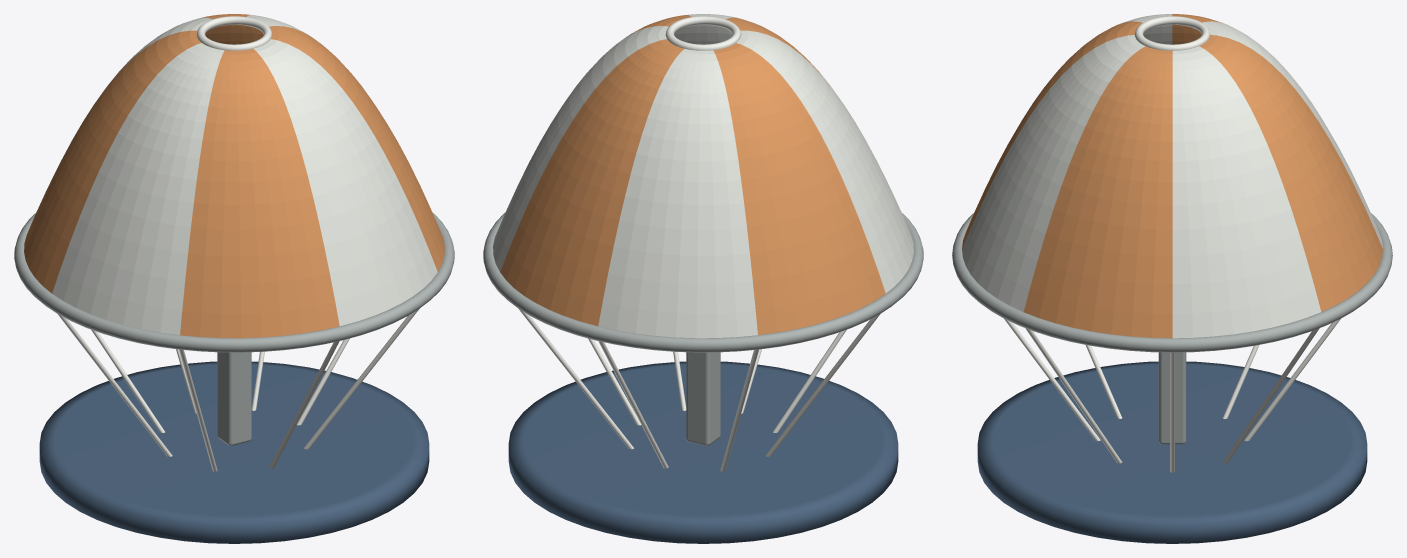
The model's file is spacecraft-parachute-packing-hall-spacecraft-parachute-7ce0497d__32090.glb.
The picture shows the model from 3 angles, left to right: view 1: azimuth 30°, elevation 25°; view 2: azimuth 150°, elevation 25°; view 3: azimuth 270°, elevation 25°; orthographic projection.
Parts seen in each view (by area): view 1: spacecraft-parachute-packing-hall-pilot-canopy-inspection-fo (×5); view 2: spacecraft-parachute-packing-hall-pilot-canopy-inspection-fo (×5); view 3: spacecraft-parachute-packing-hall-pilot-canopy-inspection-fo (×5).
Part boxes in pixels (x1=…): spacecraft-parachute-packing-hall-pilot-canopy-inspection-fo (×5): x1=14, y1=14, x2=454, y2=543; spacecraft-parachute-packing-hall-pilot-canopy-inspection-fo (×5): x1=483, y1=14, x2=923, y2=543; spacecraft-parachute-packing-hall-pilot-canopy-inspection-fo (×5): x1=952, y1=14, x2=1392, y2=543.
Bounding box in the file's own units: 0.724 × 0.787 × 0.724.
